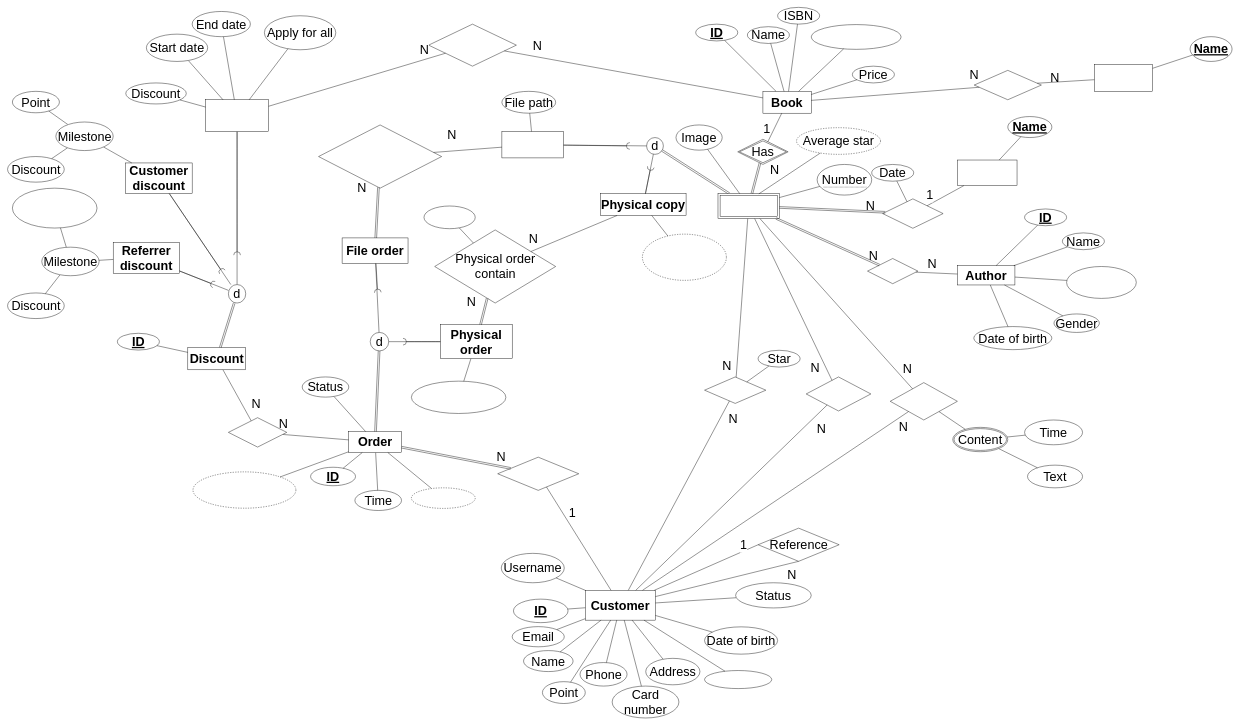
This 1239x725 diagram has some shape labels left out. The box of each missing label's shape, as (x1, y1, x2, y2) in pixels:
Age restriction: (811, 24, 901, 49)
Amount: (424, 206, 475, 229)
Apply: (228, 417, 287, 447)
Apply for: (428, 24, 516, 66)
Belong: (974, 70, 1041, 100)
Category: (1094, 64, 1153, 91)
Comment: (890, 382, 957, 420)
Destination address: (411, 381, 506, 413)
Edition: (718, 193, 779, 218)
Event discount: (205, 99, 269, 132)
File copy: (501, 131, 564, 158)
File order contain: (318, 125, 442, 188)
Number in stock: (642, 234, 726, 280)
Number of people: (12, 188, 97, 228)
Password: (704, 670, 772, 689)
Place of birth: (1066, 266, 1136, 298)
Publish: (882, 198, 943, 228)
Publisher: (957, 160, 1017, 186)
Purchase: (497, 457, 579, 490)
Rating: (704, 377, 766, 403)
Total cost: (411, 487, 475, 508)
Total discount value: (193, 471, 296, 508)
Wishlist: (806, 377, 871, 411)
Write: (867, 258, 918, 284)
